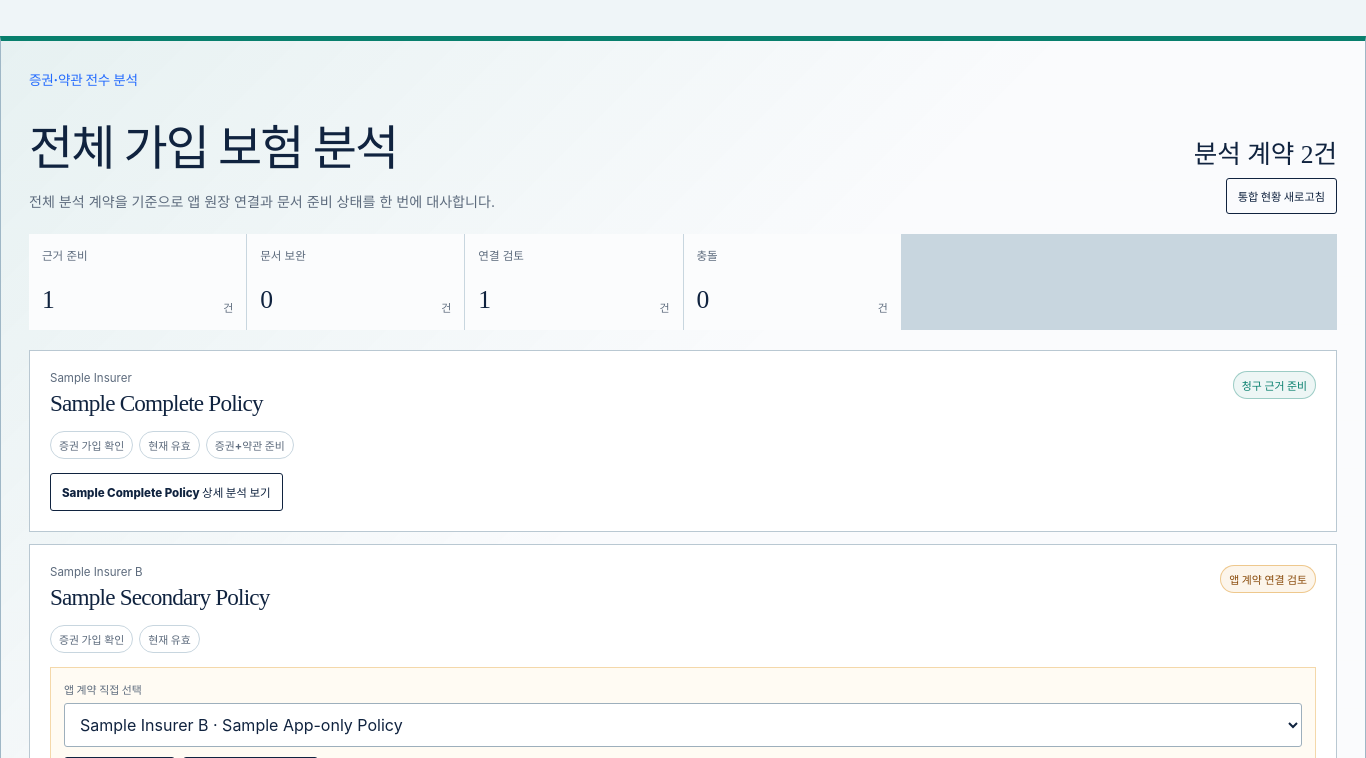
Test case: complete private insurance catalog › uses one closed reconciliation summary and expands clause-grounded analysis
The width and height of the screenshot is (1366, 758).
Expected: the heading "전체 가입 보험 분석" is shown, x1=29 y1=122 x2=397 y2=175
Expected: the text "분석 계약 2건" is shown, x1=1194 y1=132 x2=1337 y2=170
Click the button "Sample Complete Policy 상세 분석 보기" at [166, 492], box x1=50 y1=474 x2=283 y2=512
(page scrolled)
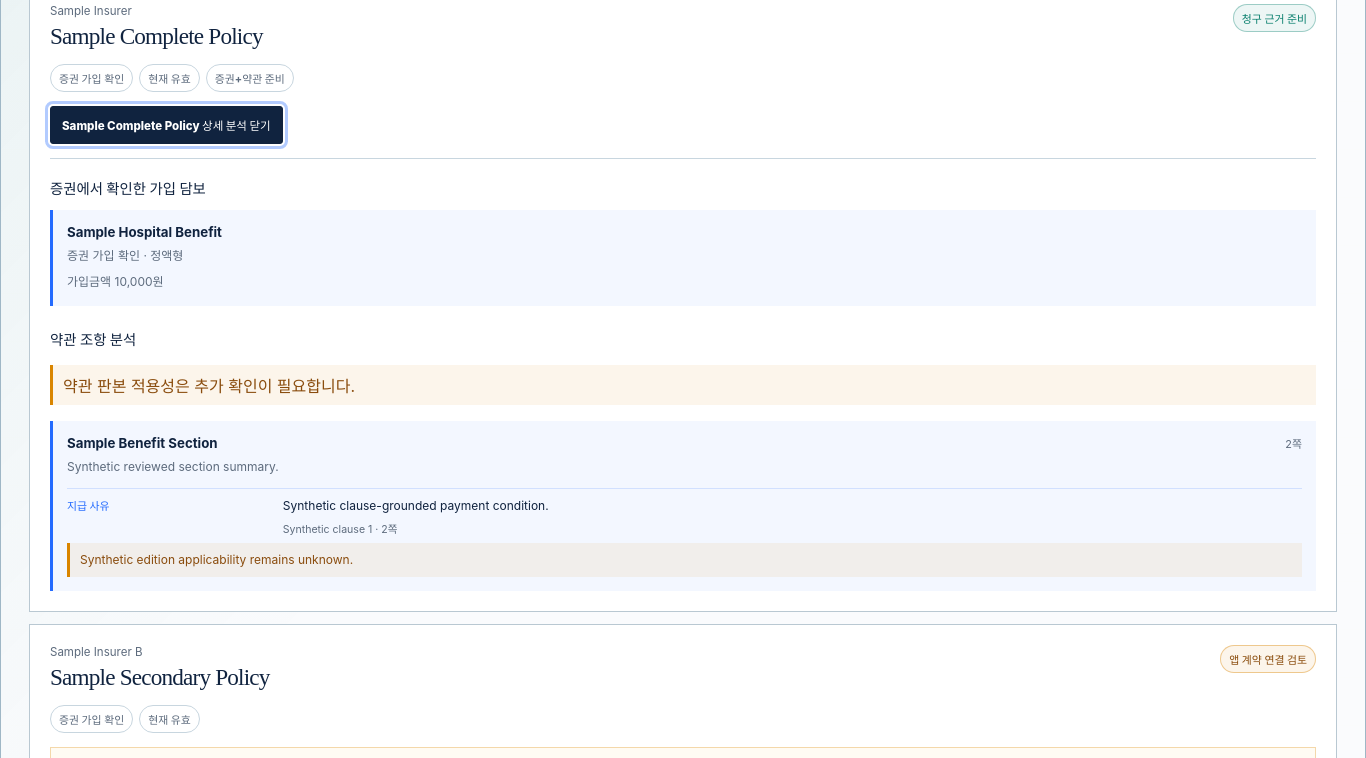
Expected: the heading "Sample Hospital Benefit" is shown, x1=67 y1=224 x2=222 y2=240
Expected: the text "Synthetic clause-grounded payment condition." is shown, x1=283 y1=498 x2=549 y2=513
Expected: the text "Synthetic clause 1 · 2쪽" is shown, x1=283 y1=523 x2=397 y2=536
